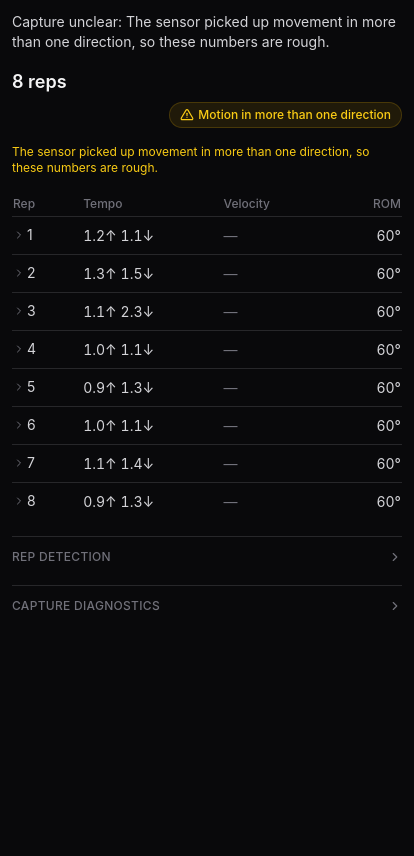
Scenario: CaptureAnalysisView › multi-axis motion reads in plain language; the PC1 detail stays in diagnostics
expect the text with test id "motion-multi-axis-note" shows "The sensor picked up movement in more than one direction, so these numbers are rough.": met, box top-left (12, 144), bottom-right (402, 176)
What coordinates should you click on to do the following:
click the button with test id "motion-diagnostics-toggle"
I would click on:
 (86, 606)
Its box is top-left (12, 594), bottom-right (402, 618).
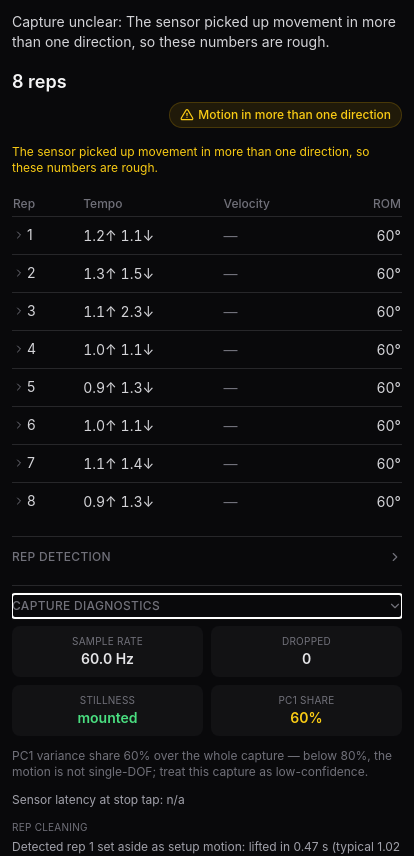
expect the text with test id "motion-pc1-technical" shows "below 80%, the motion is not single-DOF": met, box top-left (12, 748), bottom-right (392, 779)
